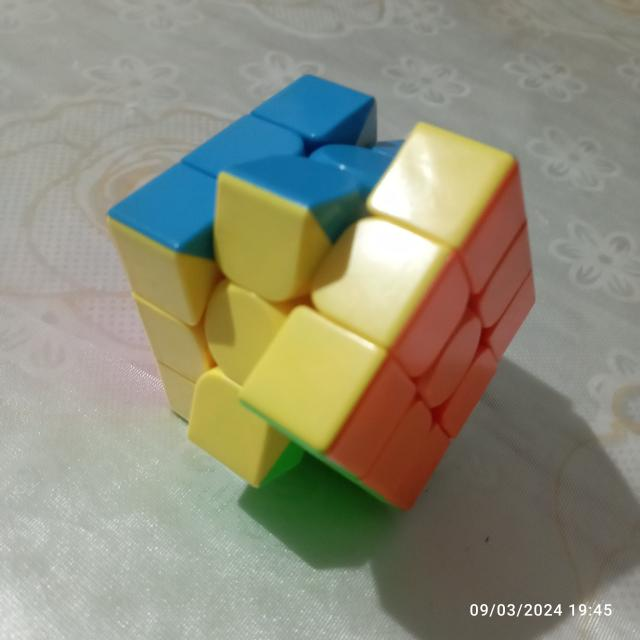Rub: (100, 66, 540, 519)
